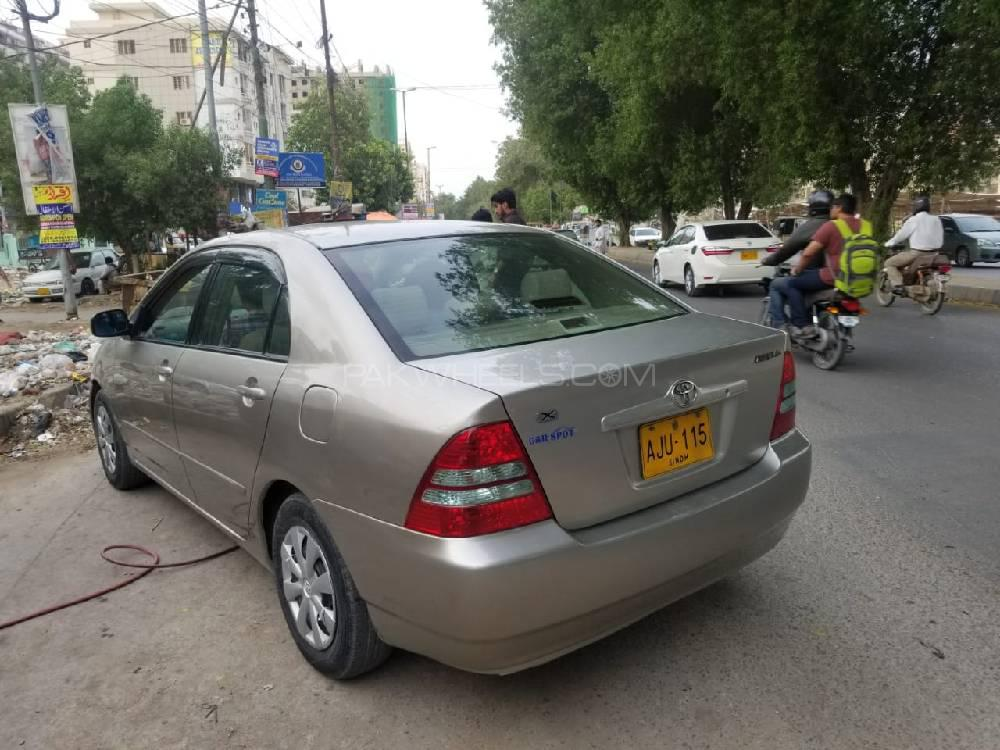license plate: (639, 416, 719, 465)
